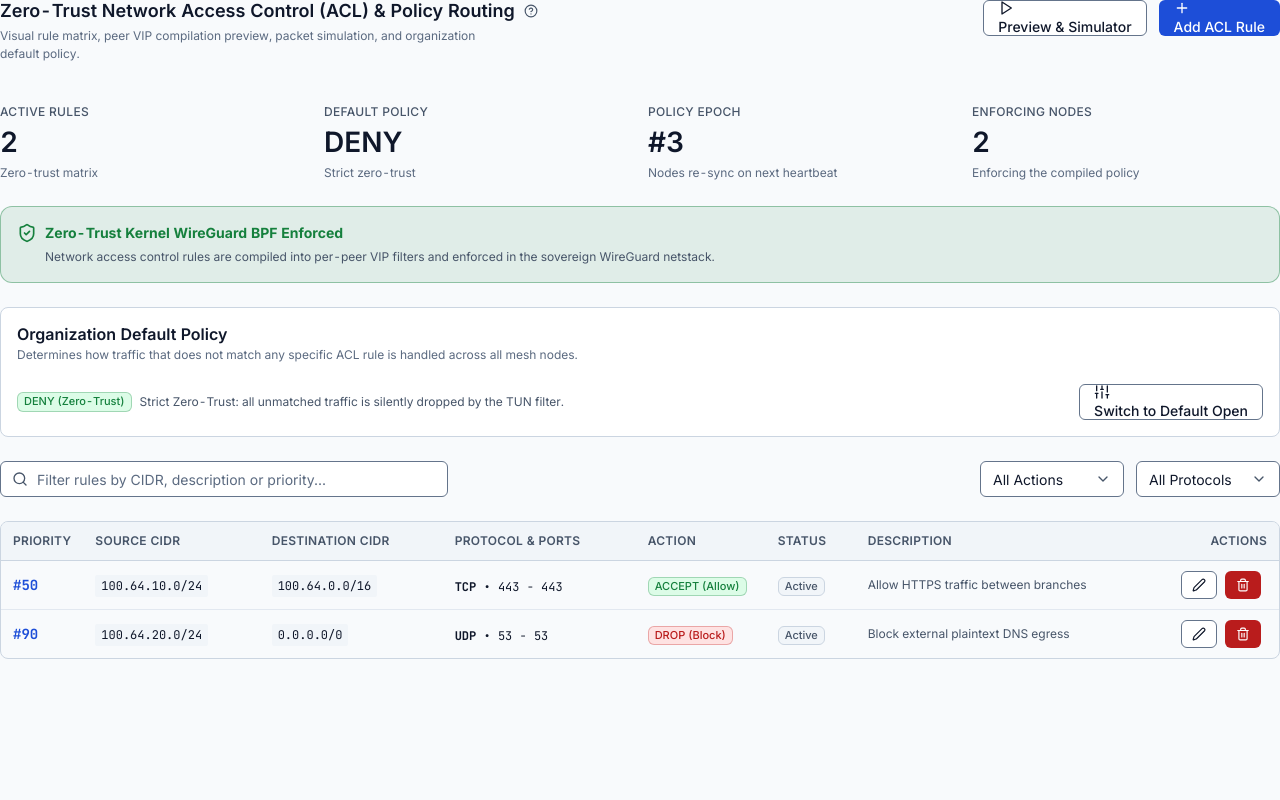
WP-407: AclsRoute (Visual ACL Rule Editor, Policy Routing & Organization Default Policy) › 4. Toggles Organization Default Policy via confirmation dialog
Click the button with test id "toggle-default-policy-button". click: [1171, 402]
box: [1079,384,1263,420]
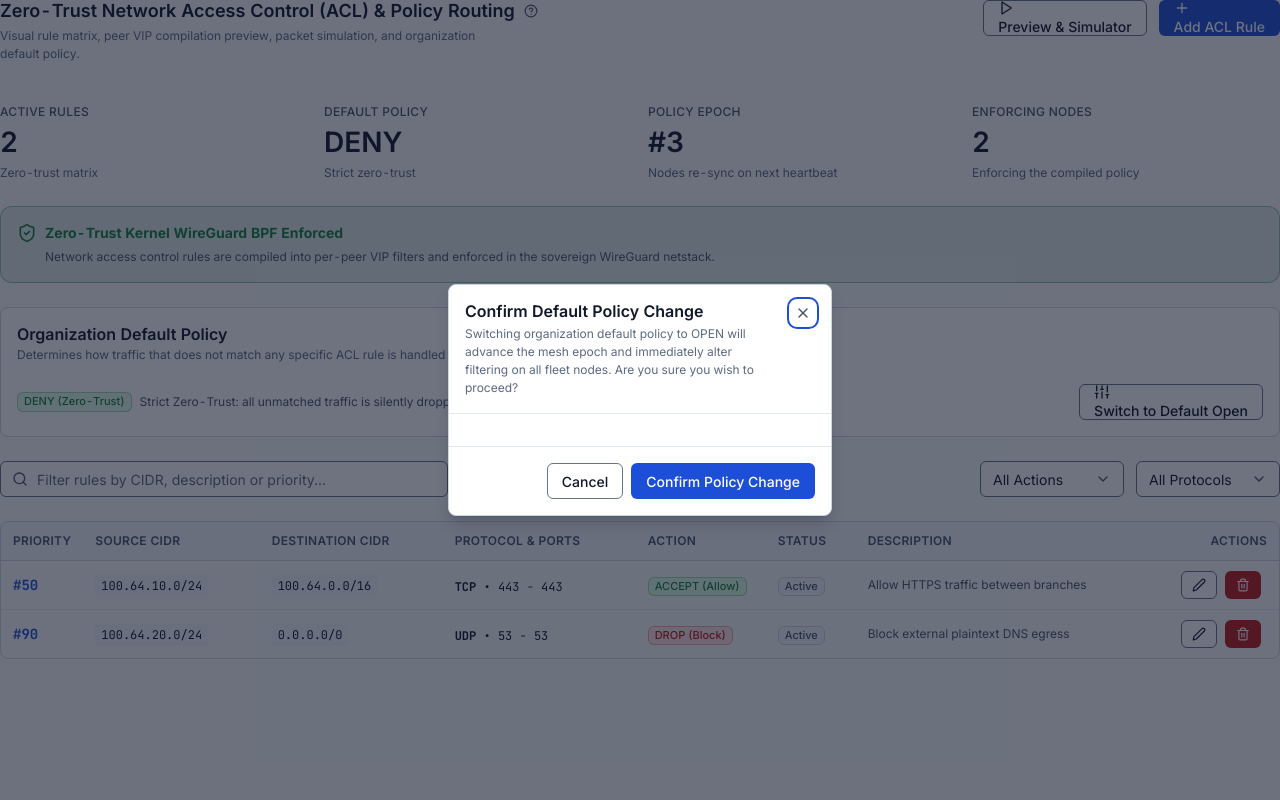
Expected: the button "Confirm Policy Change" is shown
Confirm change
Click the button "Confirm Policy Change". click: [723, 481]
box: [631,463,815,499]
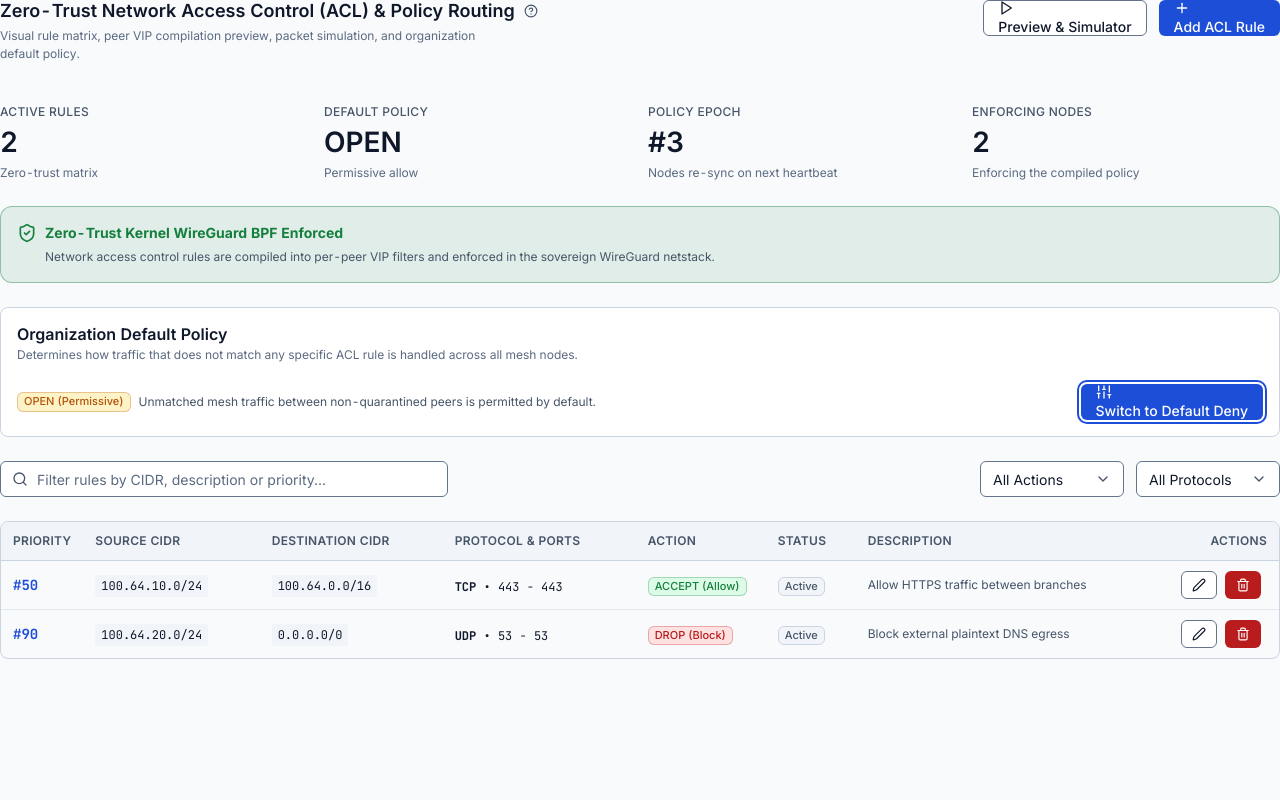
Expected: the button "Confirm Policy Change" is gone
